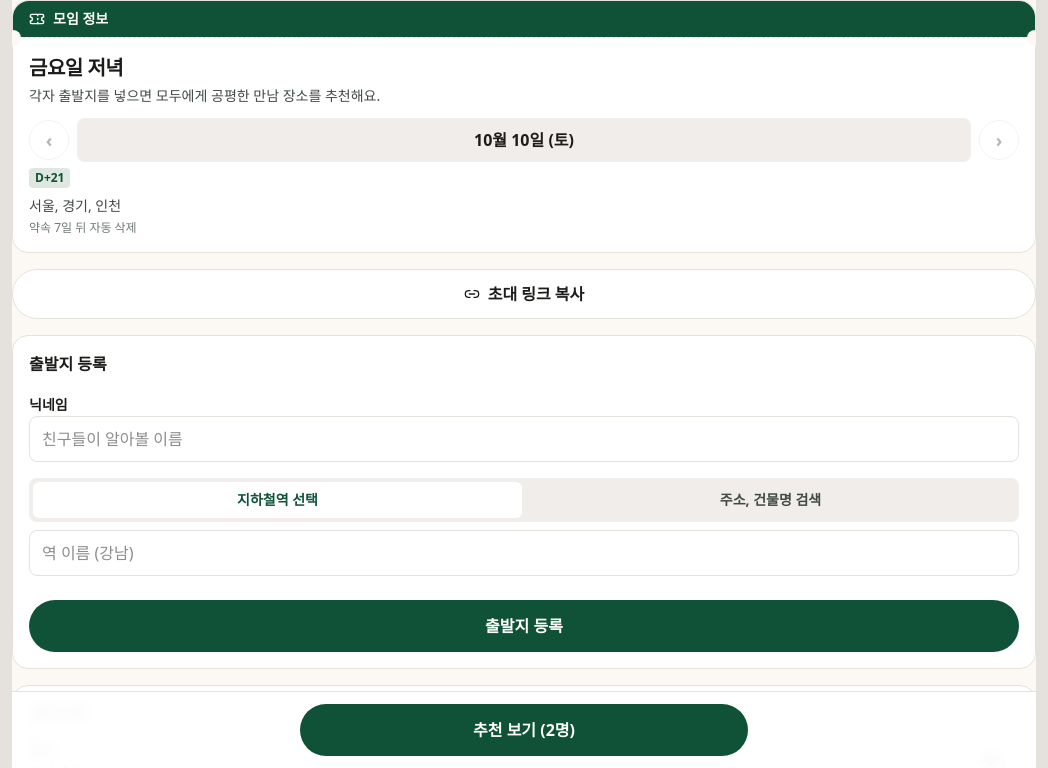
Test case: 초대 링크를 복사하면 join으로 남기고, 복사에 실패하면 남기지 않는다
The width and height of the screenshot is (1048, 768).
Click the button "초대 링크 복사". click: coordinates (524, 294)
box: [12,269,1036,319]
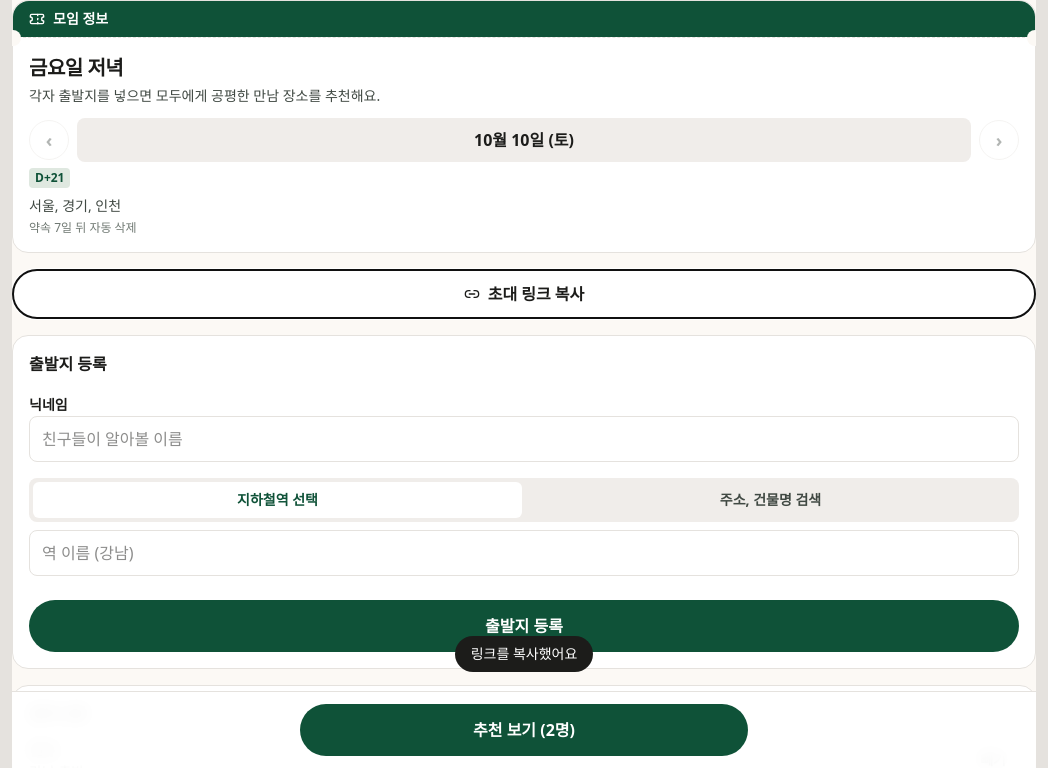
Now the text "링크를 복사했어요" is shown, box [455,636,593,672]
Click the button "초대 링크 복사". click: coordinates (524, 294)
box: [12,269,1036,319]
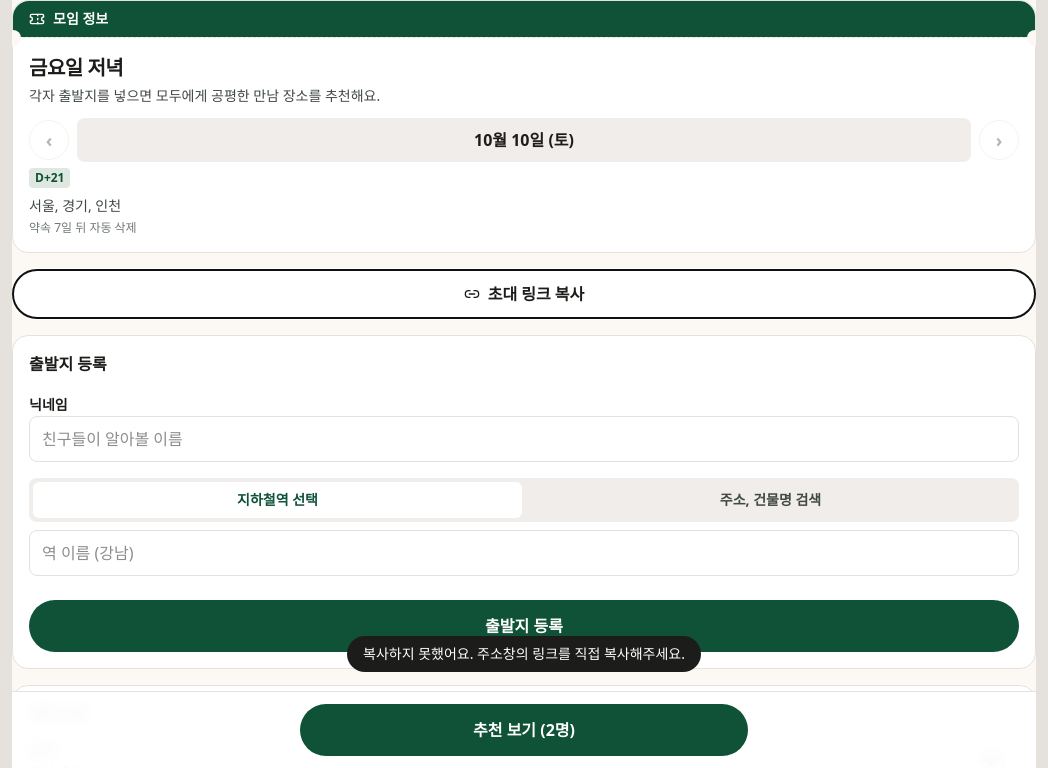
Now the text "복사하지 못했어요. 주소창의 링크를 직접 복사해주세요." is shown, box [347,636,701,672]
